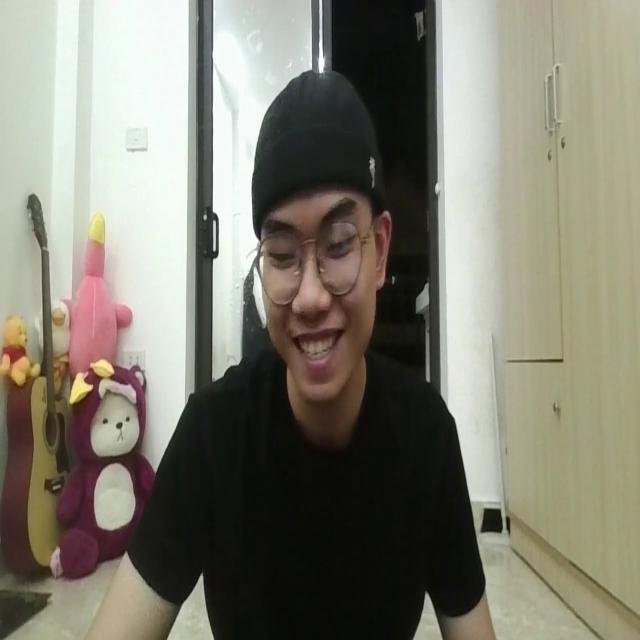student: (61, 73, 498, 640)
